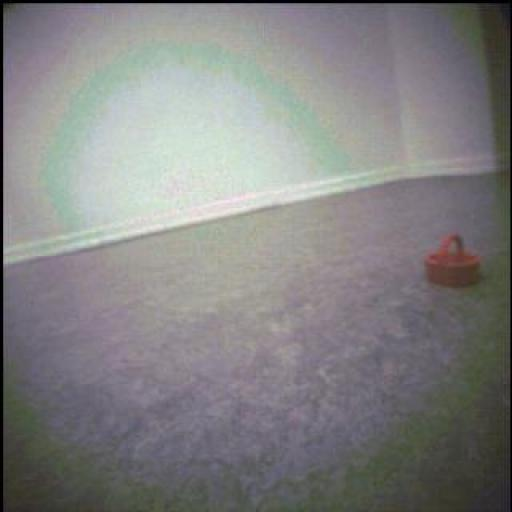Bucket: (427, 235, 481, 288)
